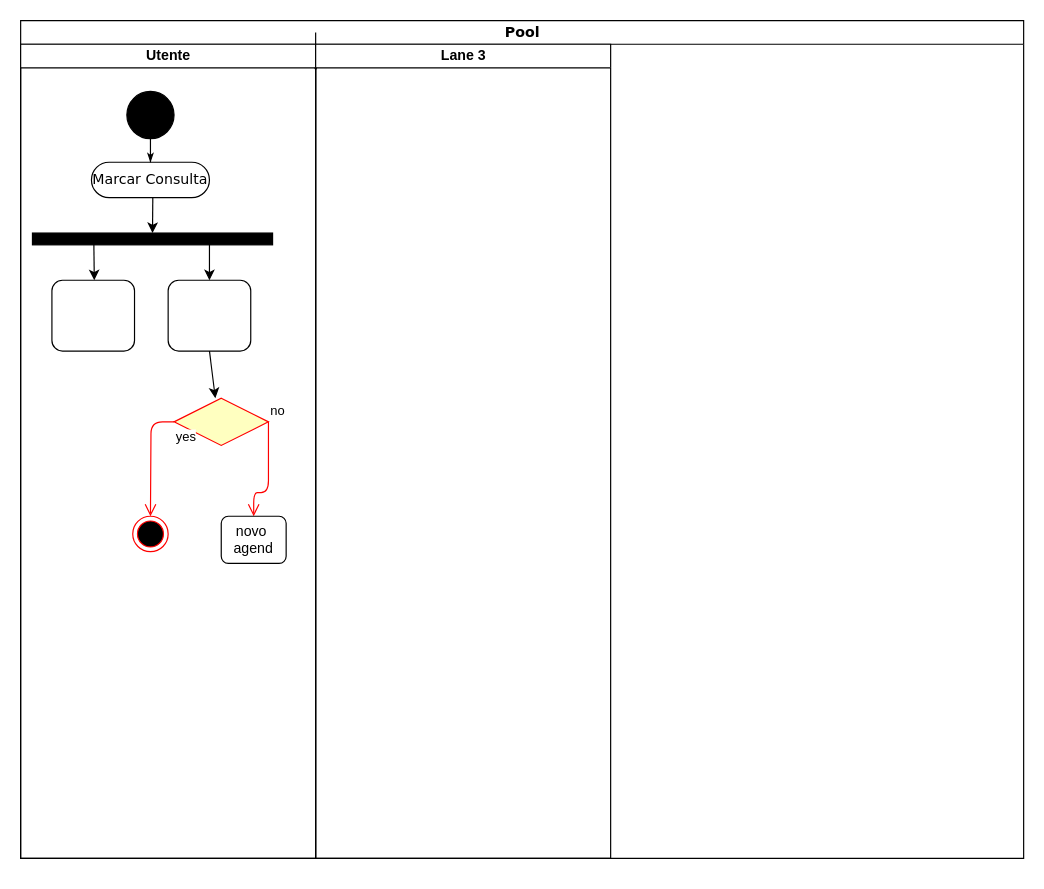
The diagram is 1044 pixels wide and 889 high, and some of its shapes have lost their labels. Here are the shapes that lost their labels. From the top down, the centre of each, then its label:
At (93,315): "Comparecer Consulta".
At (209,315): "Desmarcar Consulta".
At (220,421): "Desistencia".
